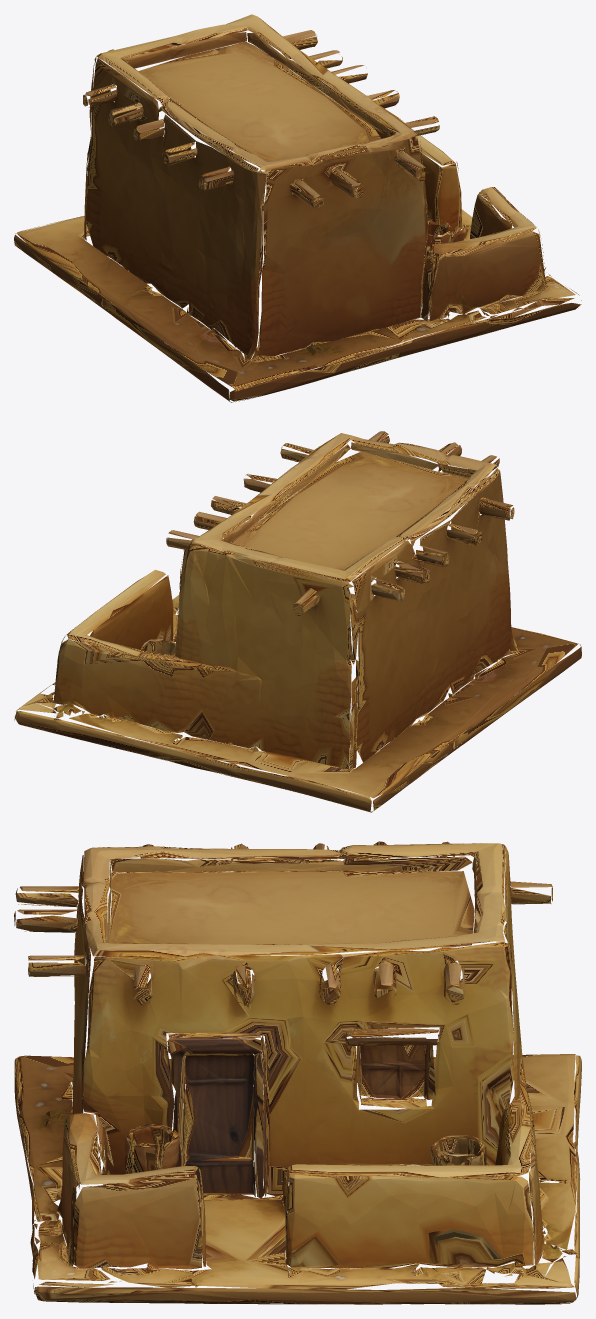
Rendered from jalous_house.glb.
The picture shows the model from 3 angles, top to bottom: view 1: azimuth 30°, elevation 25°; view 2: azimuth 150°, elevation 25°; view 3: azimuth 270°, elevation 25°; orthographic projection. The views are drawn at different scales.
Visible parts, largest first — view 1: world; view 2: world; view 3: world.
Part boxes in pixels (x1,y1,x2,y2): world: (14,14,581,402); world: (14,431,581,812); world: (14,841,581,1304).
Size of the model in its own units: 0.9725 by 0.5219 by 0.9958.
Materials: 1 (1 with a texture image).
